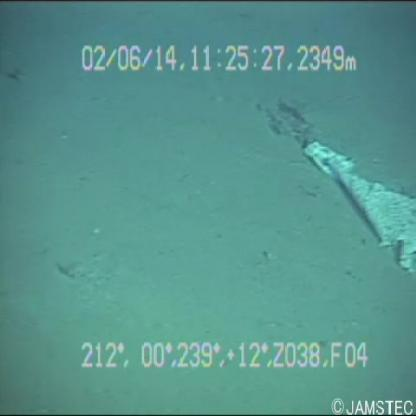Rác: (287, 128, 416, 283)
